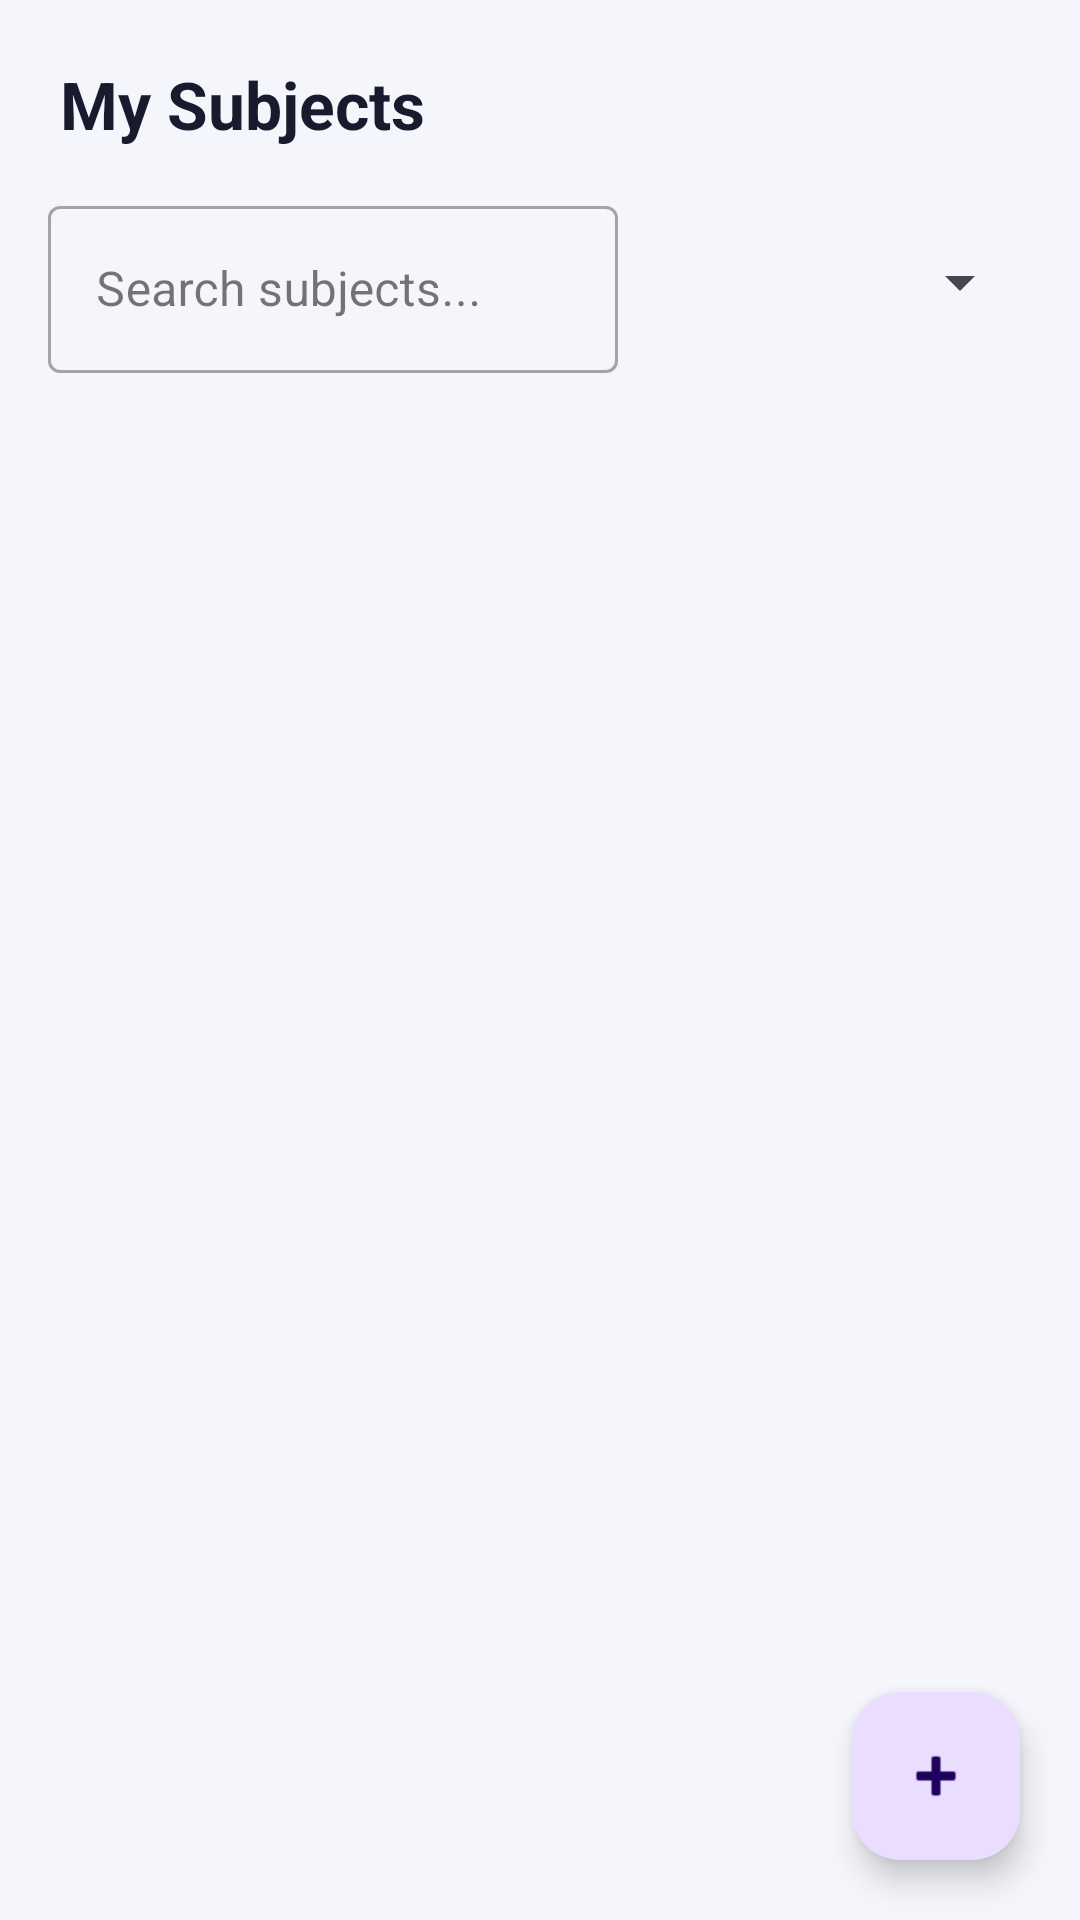

Named icons in this screenshot (1080px x 1920px) and their centers, point (x, y):
Add Subject: point (936, 1776)
